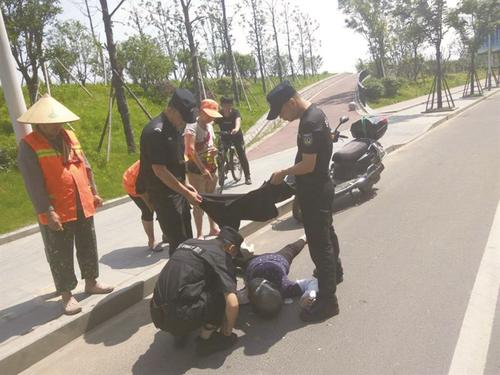fall: (232, 225, 326, 318)
